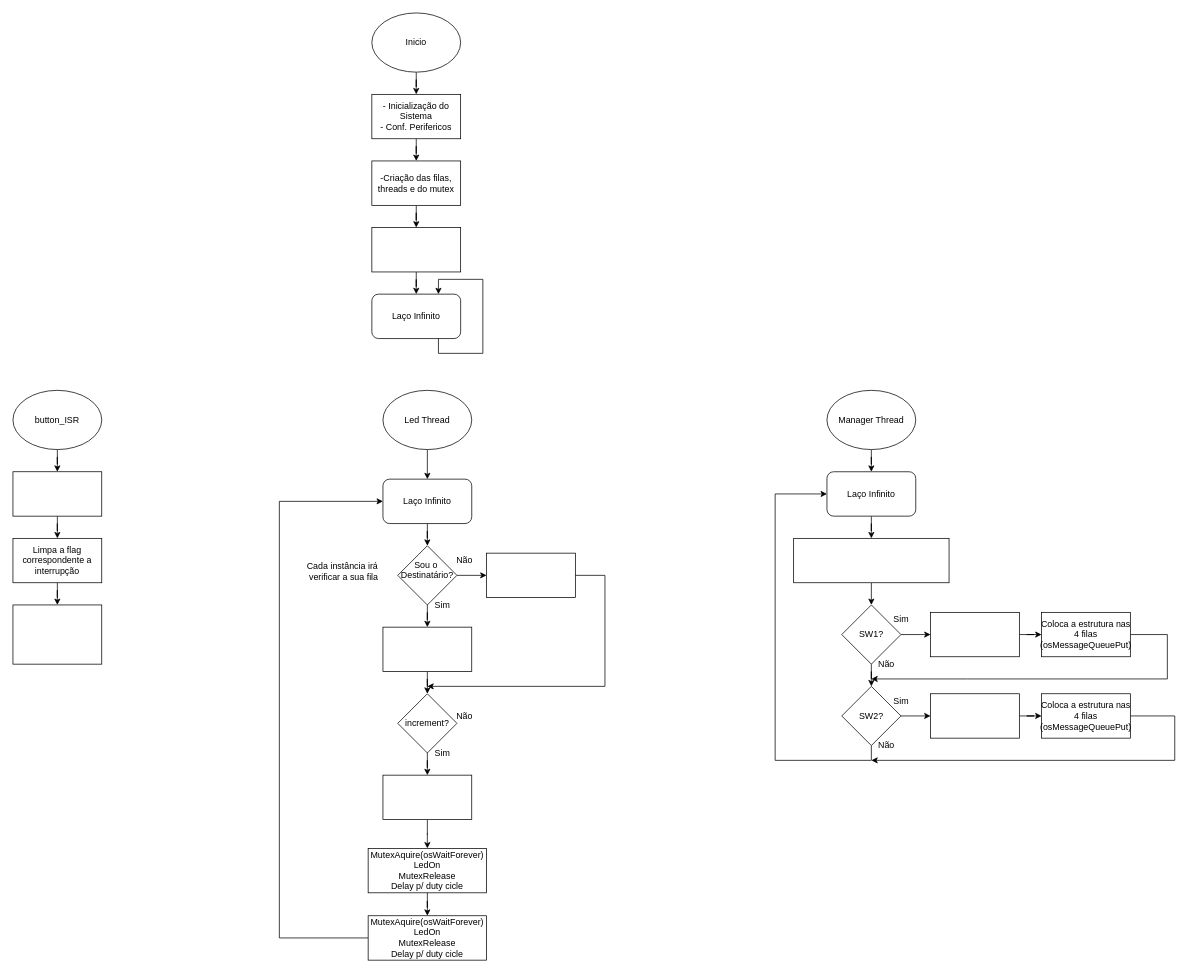
Image size: 1194x973. Some labels were removed from this diagram. The centre of each missing label's shape, as x and y in pixels:
dutyCycle+=10: the point at 427,797
is_selected = 0: the point at 530,575
is_selected = 1: the point at 427,649
Kernel Start: the point at 416,249
osThreadFlagsWait(SW1_PRESSED | SW2_PRESSED , osFlagsWaitAny, osWaitForever): the point at 871,560
Pega o tick atual do sistema para deboucing: the point at 57,493
Preenche a estrutura com o valor do led selecionado: the point at 974,634
Preenche a estrutura setando increment_pwm: the point at 974,715
Seta event flag conforme a interrupção se não estiver no periodo de deboucing: the point at 57,634
